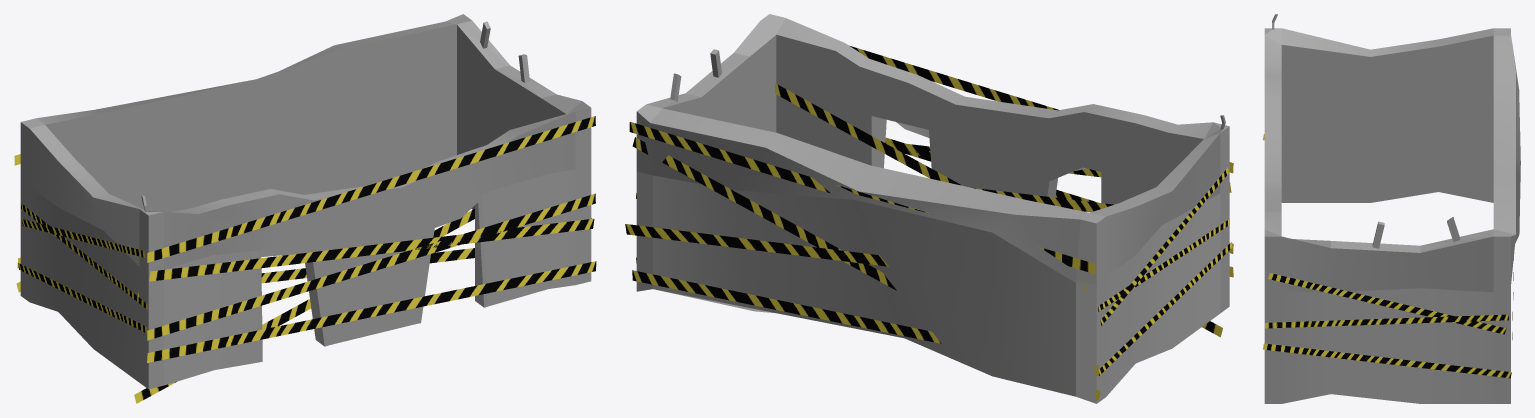
File: Casa_4x8.fbx
3 renders of one model, left to right at view 1: azimuth 30°, elevation 25°; view 2: azimuth 150°, elevation 25°; view 3: azimuth 270°, elevation 25°, orthographic. The views are drawn at different scales.
Visible parts, largest first — view 1: Casa_4x8; view 2: Casa_4x8; view 3: Casa_4x8.
Part boxes in pixels (left/top/right/bottom): Casa_4x8: left=14, top=14, right=596, bottom=403; Casa_4x8: left=625, top=14, right=1233, bottom=403; Casa_4x8: left=1263, top=14, right=1520, bottom=403.
Size of the model in its own units: 826 by 365 by 420.
Materials: 2 (1 with a texture image).
